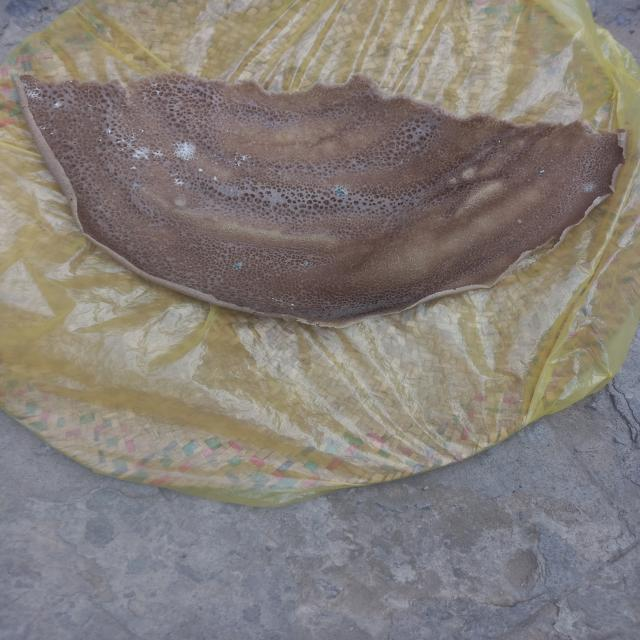injera_mold: (168, 138, 202, 165), (20, 81, 45, 104), (129, 145, 155, 166), (228, 151, 256, 169), (581, 179, 602, 196), (226, 258, 246, 274), (297, 256, 314, 272), (332, 184, 352, 197), (171, 176, 189, 189), (51, 99, 68, 110)
